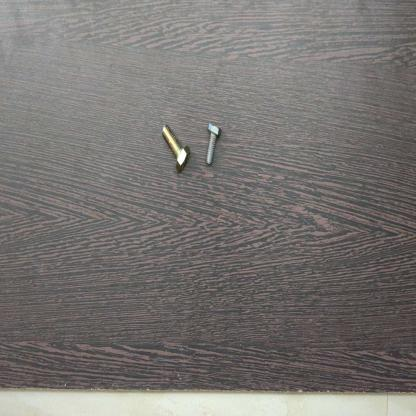Bolts: (156, 117, 194, 176), (204, 117, 225, 175)
